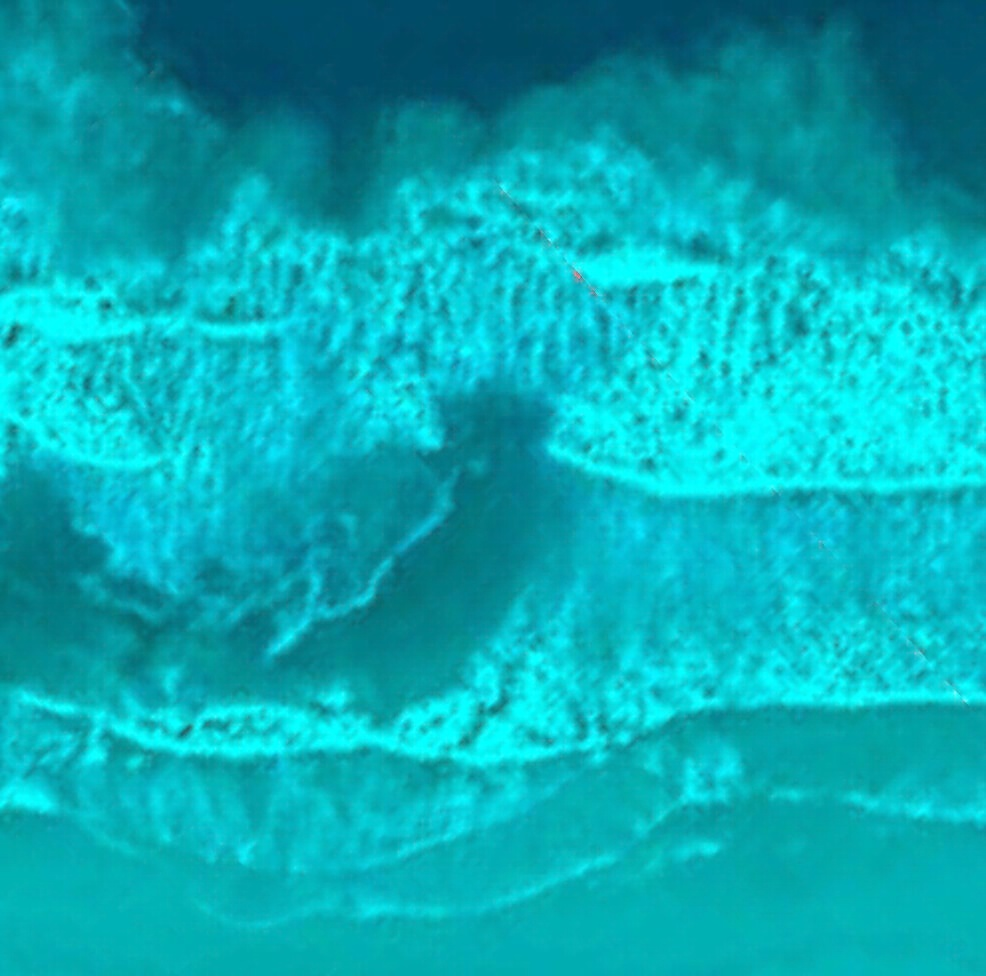rip_current: (322, 93, 649, 702)
